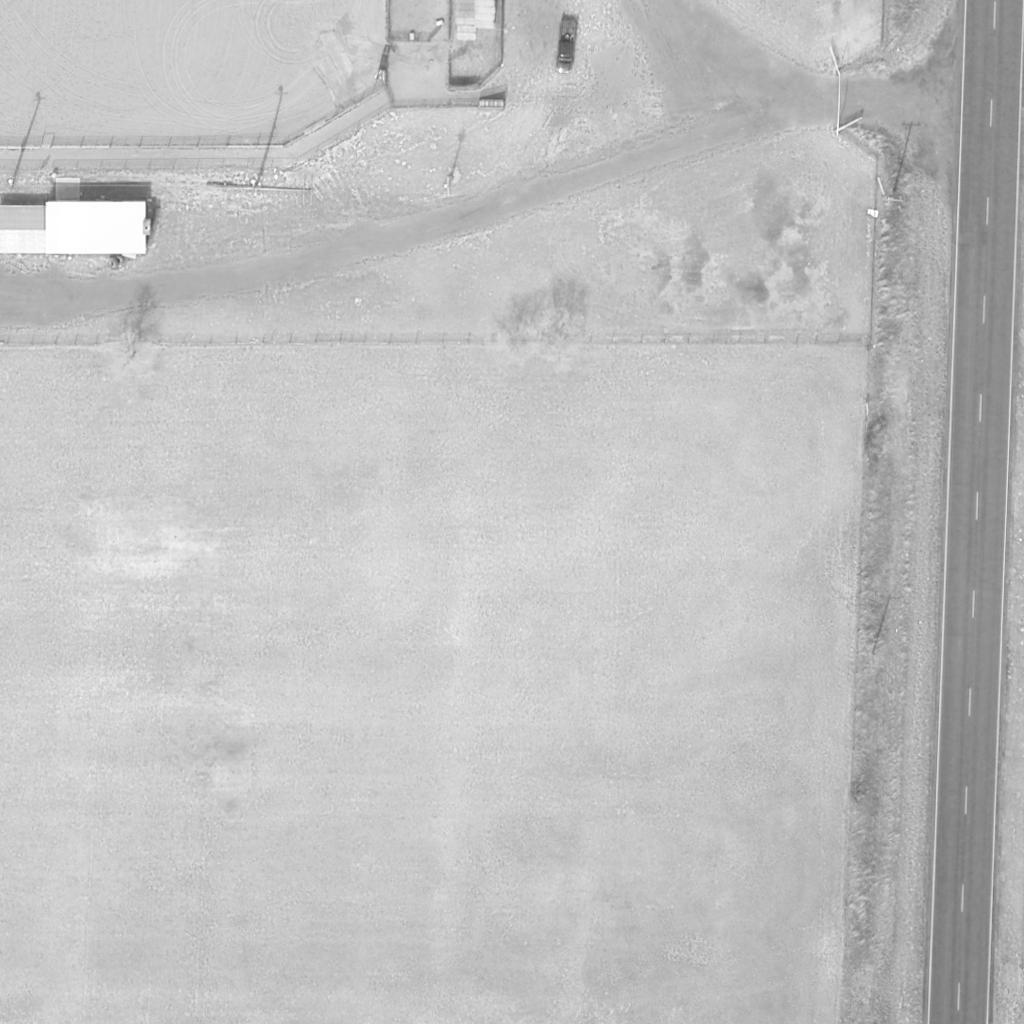vehicle: (553, 17, 579, 75)
